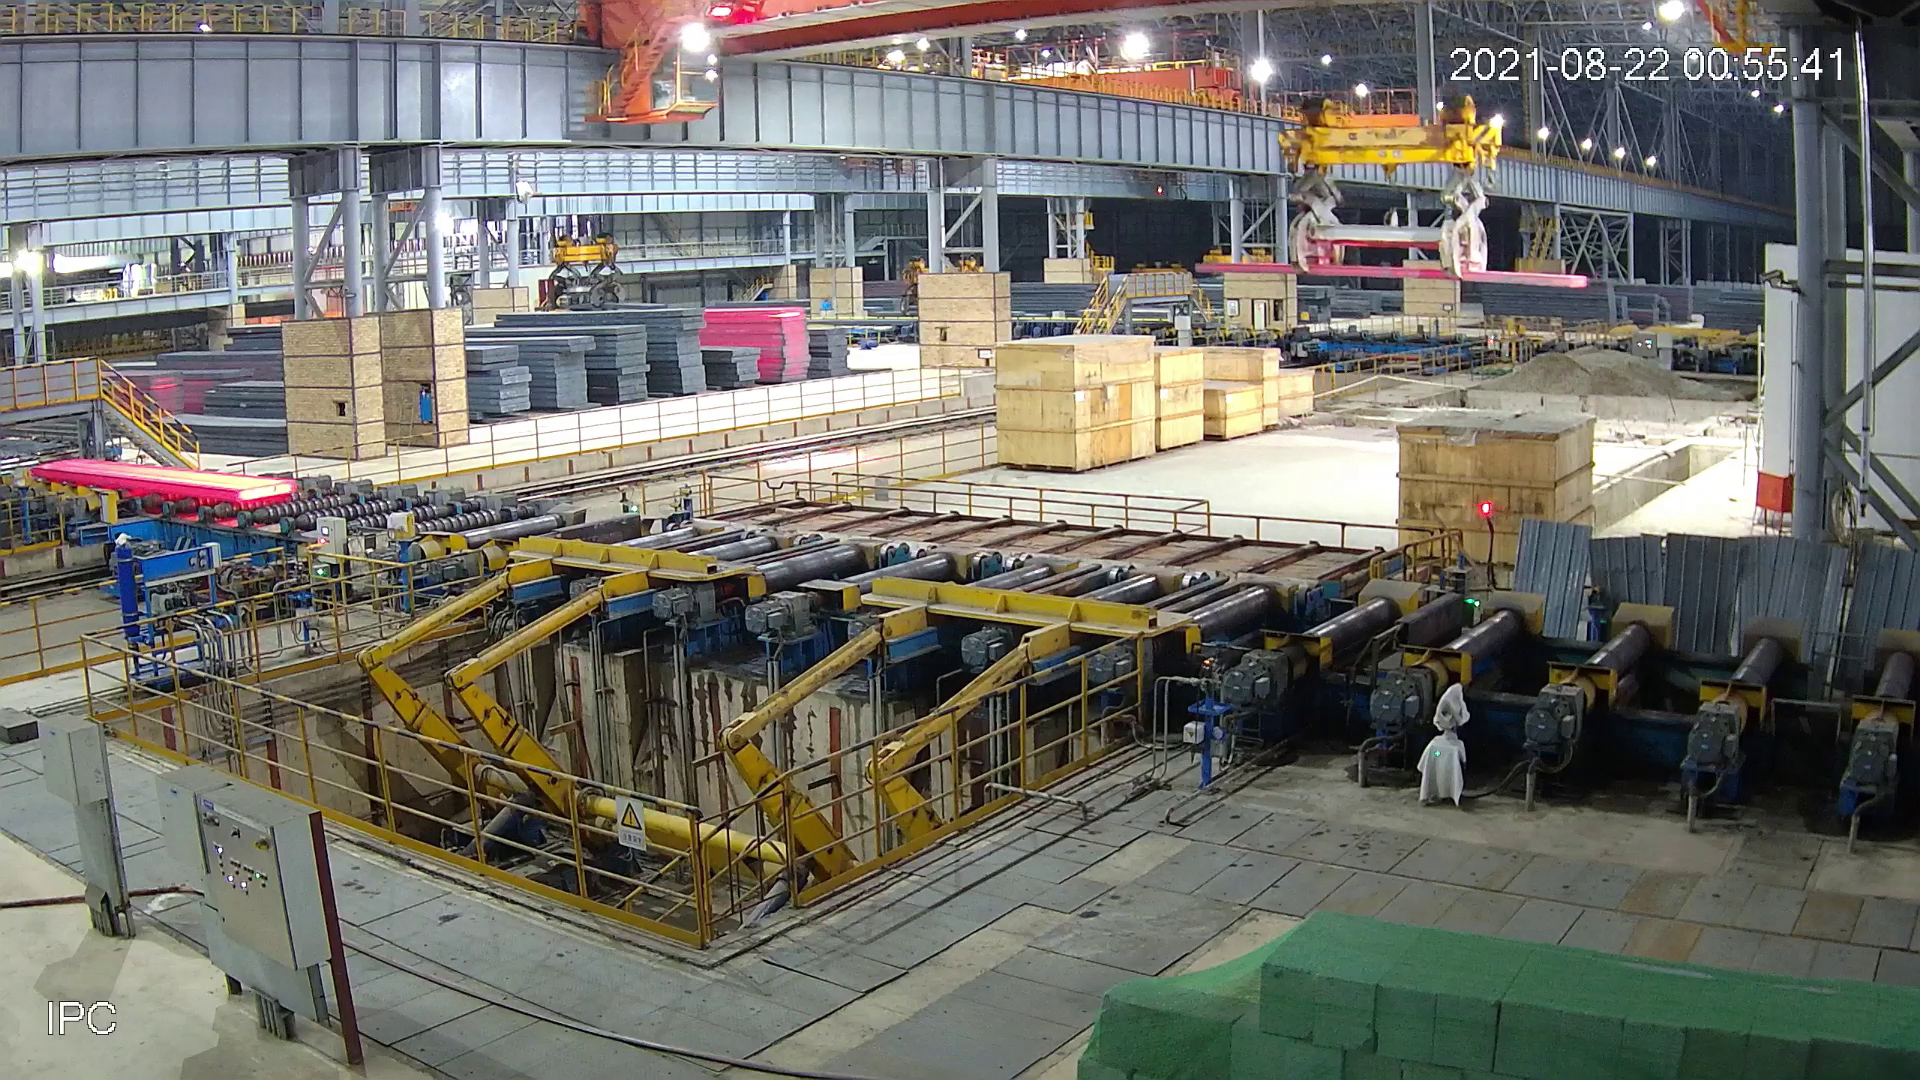craneandslab: (1174, 26, 1592, 345)
slab: (26, 450, 305, 512)
